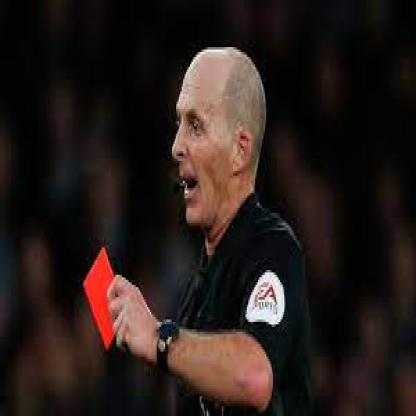foul: (66, 98, 152, 415)
